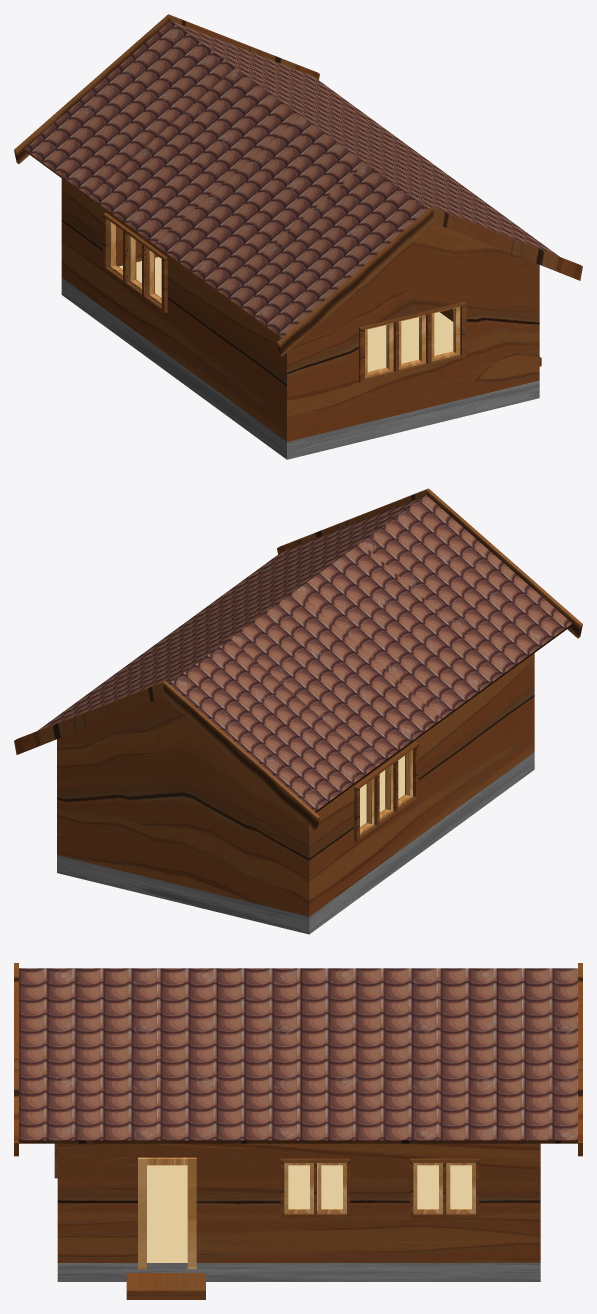
The model's file is SmallCottage.fbx.
3 renders of one model, top to bottom at view 1: azimuth 30°, elevation 25°; view 2: azimuth 150°, elevation 25°; view 3: azimuth 270°, elevation 25°, orthographic. The views are drawn at different scales.
Parts seen in each view (by area): view 1: roof-top, frame, base, roof-side.001, roof-side.002, window-side-frame, window-rear-frame, window-side-frame-interior3, roof-side, window-side-frame-interior1, window-side-frame-interior2; view 2: roof-top, frame, base, roof-side.002, roof-side.001, window-rear-frame, roof-side; view 3: roof-top, frame, base, door-frame, roof-side, base-step, window-front2-frame, window-front1-frame, roof-side.001, roof-side.002, window-front1-interior1, window-front1-interior2 (+2 smaller).
Boxes of the visible parts, x1=… form: roof-top: x1=25, y1=20, x2=559, y2=337; frame: x1=61, y1=178, x2=539, y2=441; base: x1=61, y1=257, x2=539, y2=459; roof-side.001: x1=277, y1=206, x2=582, y2=356; roof-side.002: x1=14, y1=14, x2=319, y2=163; window-side-frame: x1=359, y1=301, x2=466, y2=382; window-rear-frame: x1=103, y1=213, x2=167, y2=312; window-side-frame-interior3: x1=431, y1=306, x2=460, y2=361; roof-side: x1=24, y1=149, x2=281, y2=338; window-side-frame-interior1: x1=365, y1=322, x2=393, y2=377; window-side-frame-interior2: x1=399, y1=315, x2=425, y2=369; roof-top: x1=37, y1=495, x2=572, y2=811; frame: x1=57, y1=653, x2=534, y2=916; base: x1=57, y1=752, x2=534, y2=934; roof-side.002: x1=14, y1=681, x2=319, y2=830; roof-side.001: x1=277, y1=488, x2=582, y2=638; window-rear-frame: x1=354, y1=742, x2=418, y2=842; roof-side: x1=315, y1=624, x2=571, y2=812; roof-top: x1=19, y1=968, x2=577, y2=1140; frame: x1=57, y1=1143, x2=540, y2=1262; base: x1=57, y1=1163, x2=540, y2=1281; door-frame: x1=138, y1=1157, x2=196, y2=1269; roof-side: x1=19, y1=1140, x2=577, y2=1143; base-step: x1=126, y1=1273, x2=205, y2=1299; window-front2-frame: x1=409, y1=1158, x2=479, y2=1218; window-front1-frame: x1=280, y1=1158, x2=350, y2=1218; roof-side.001: x1=14, y1=963, x2=18, y2=1156; roof-side.002: x1=578, y1=963, x2=582, y2=1156; window-front1-interior1: x1=284, y1=1163, x2=313, y2=1213; window-front1-interior2: x1=317, y1=1163, x2=346, y2=1213.
Bounding box in the file's own units: 686 × 490 × 1001.
